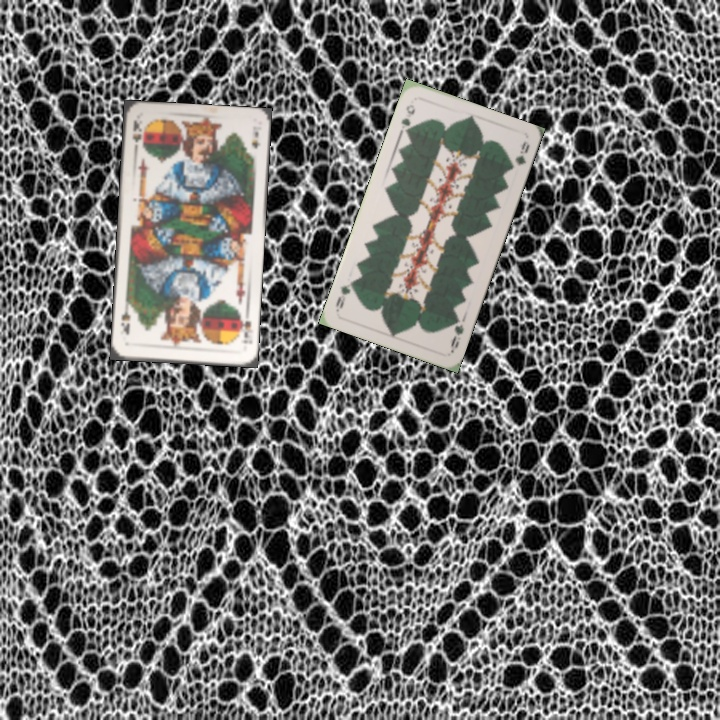G9: (446, 313, 466, 354), (397, 100, 418, 137)
SK: (235, 310, 254, 347), (128, 116, 144, 153)
